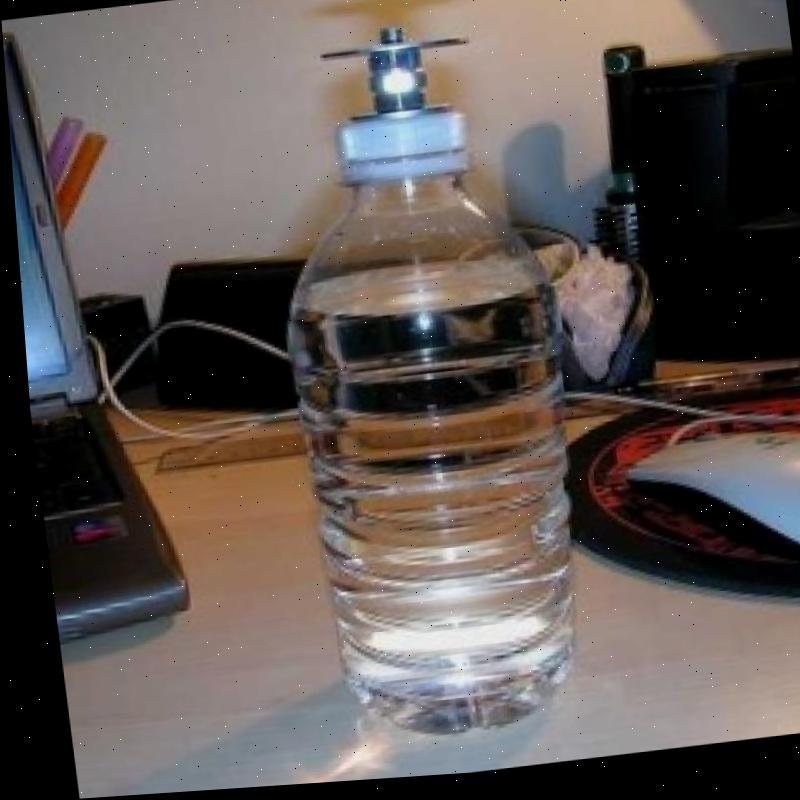botella: (252, 106, 593, 751)
